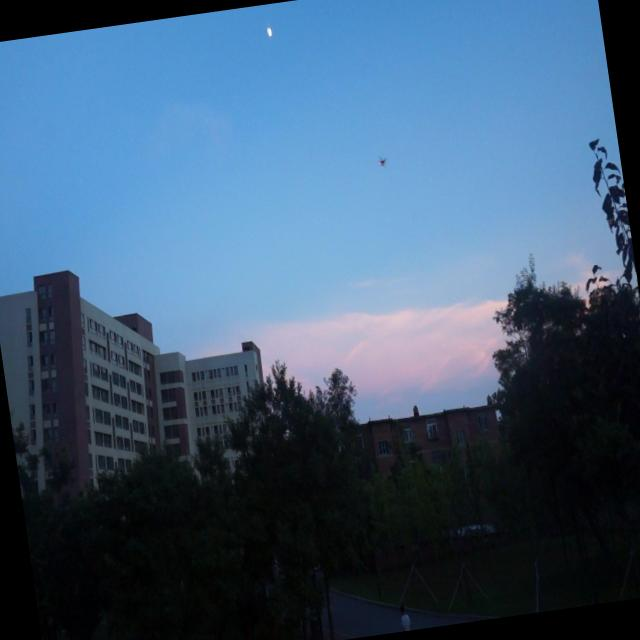drone: (376, 154, 389, 169)
